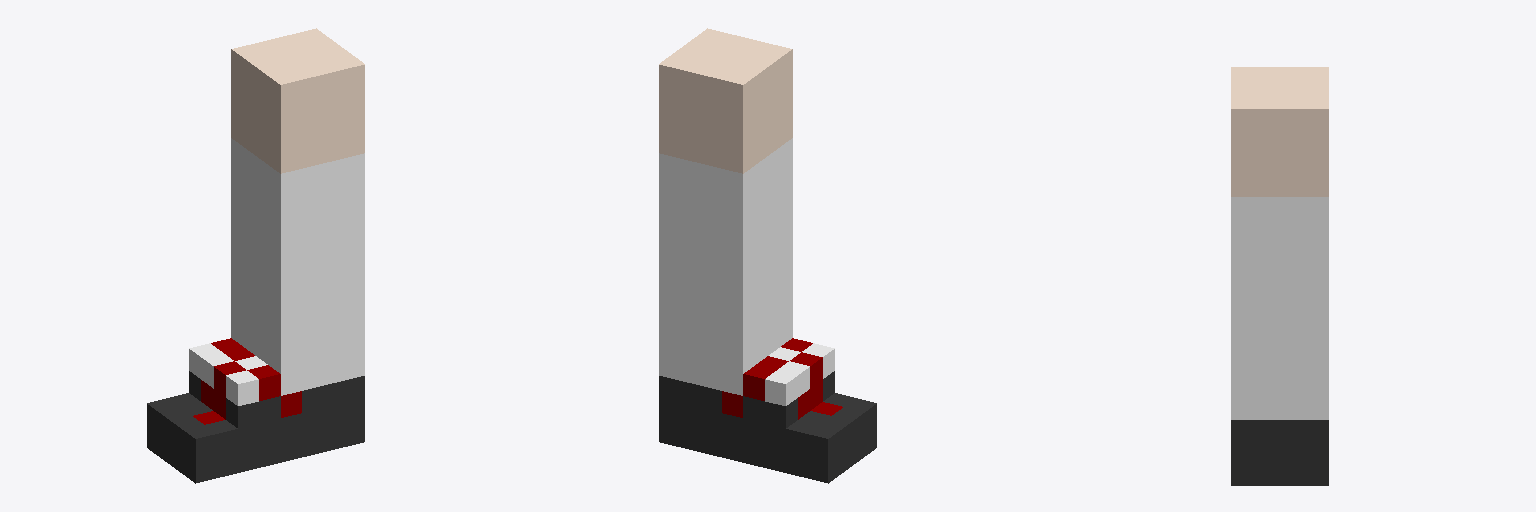
3 views of the same model, side by side, from view 1: azimuth 30°, elevation 25°; view 2: azimuth 150°, elevation 25°; view 3: azimuth 270°, elevation 25° (orthographic).
Visible parts, largest first — view 1: RightLeg_1; view 2: RightLeg_1; view 3: RightLeg_1.
Part boxes in pixels (x1,y1,x2,y2): RightLeg_1: (147, 28, 364, 483); RightLeg_1: (659, 28, 876, 483); RightLeg_1: (1231, 67, 1328, 485).
Size of the model in its own units: 0.8 by 1.7 by 0.4.
Materials: 1 (1 with a texture image).